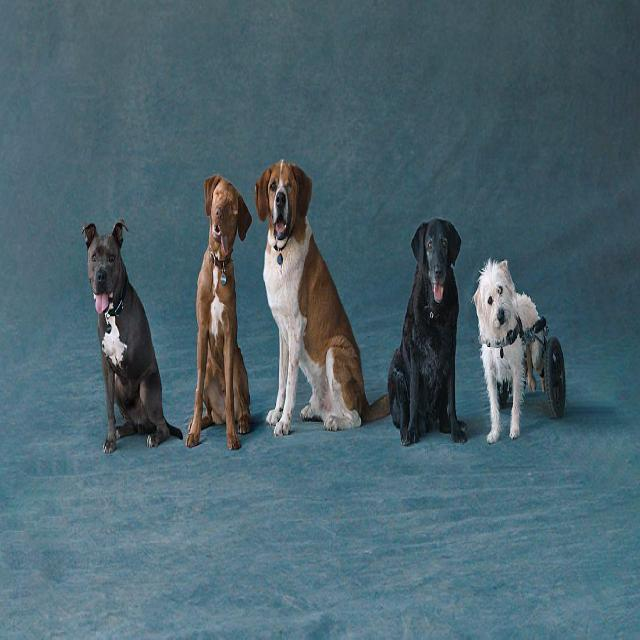Dog: (406, 210, 466, 310), (80, 213, 133, 323), (254, 156, 315, 248), (201, 169, 253, 267), (470, 254, 520, 340)
